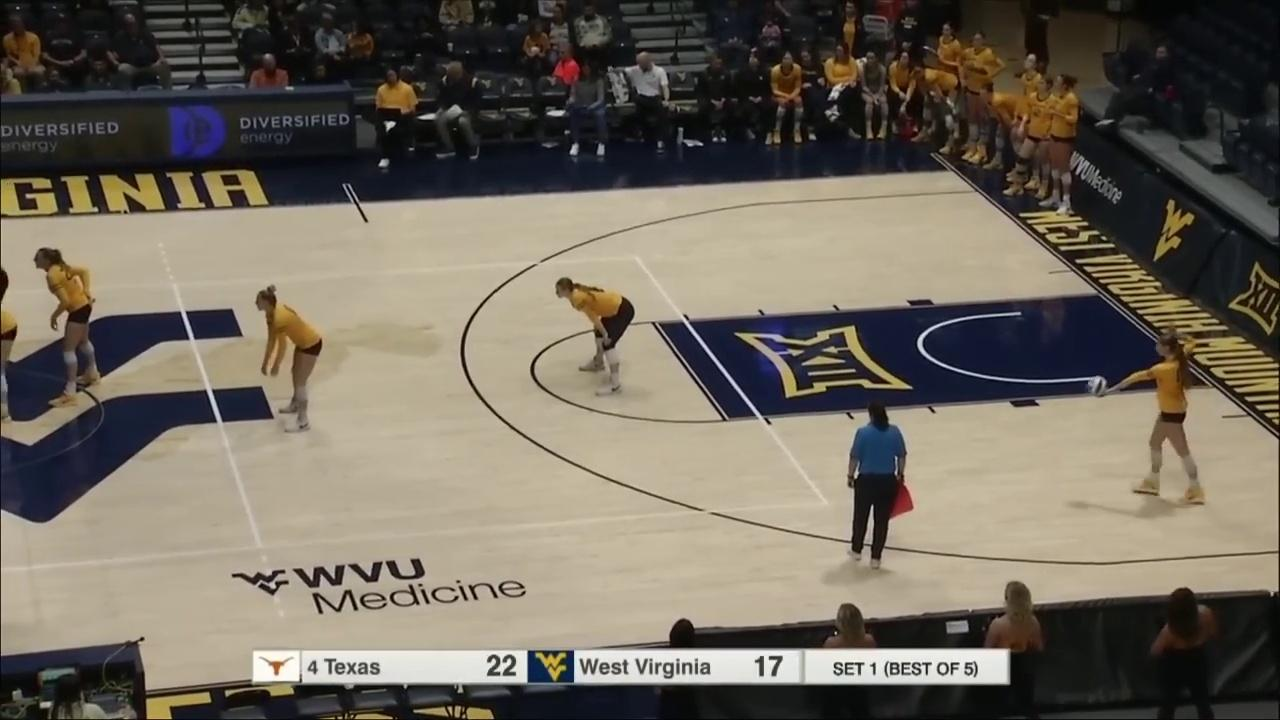player: (1110, 329, 1208, 504), (34, 247, 98, 402), (256, 286, 322, 432), (555, 277, 635, 397), (0, 303, 20, 425)
refree: (845, 403, 909, 564)
